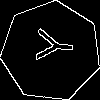Y: (26, 26, 75, 65)
